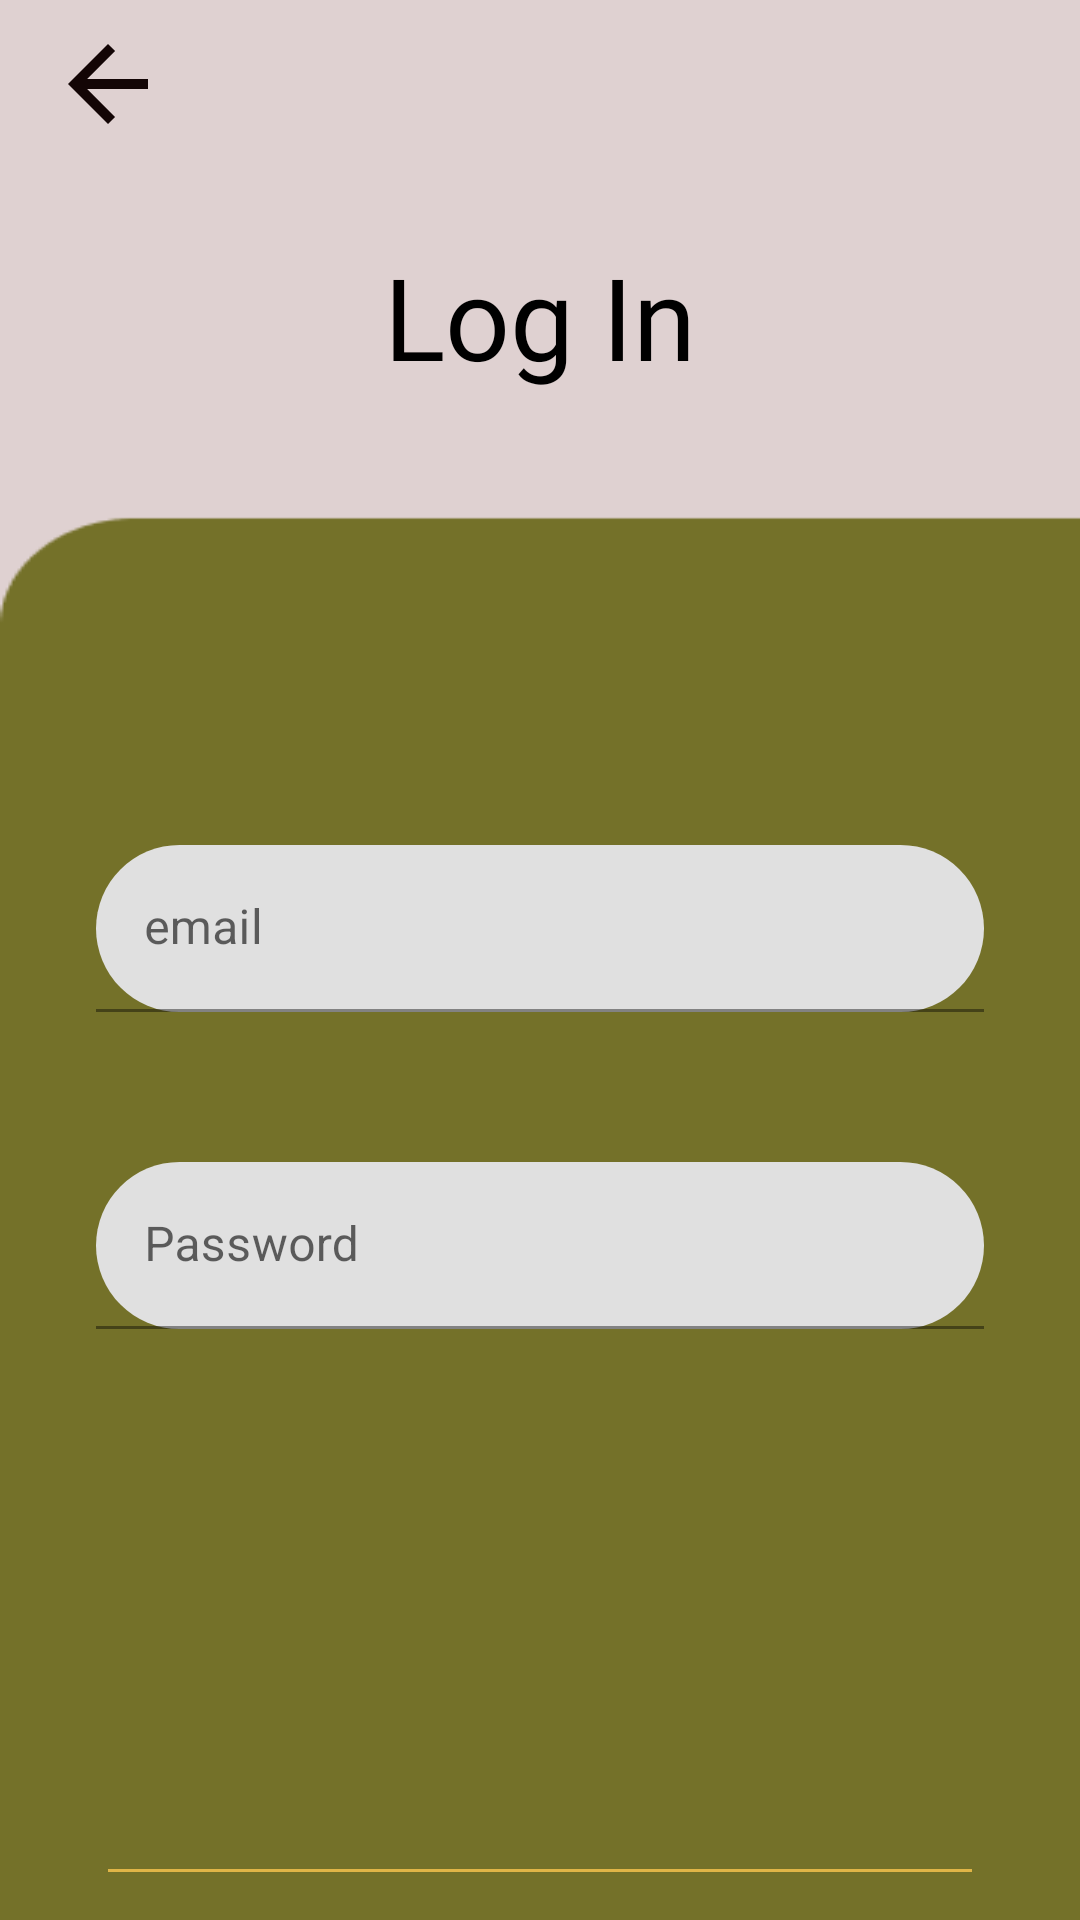

Icons on this 1080 x 1920 Android screen, each with its box as bbox(x1, y1, x2, y2):
arrow back: bbox(68, 44, 148, 124)
